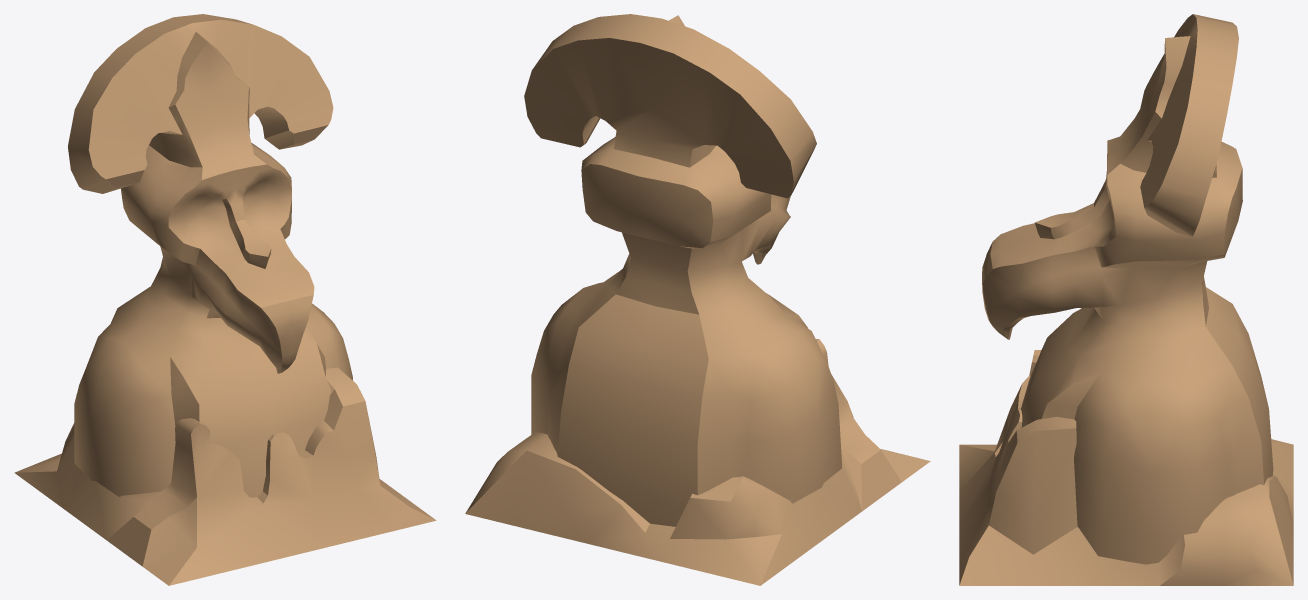
The model's file is OBJ_Sculpture_04.FBX.
3 renders of one model, left to right at view 1: azimuth 30°, elevation 25°; view 2: azimuth 150°, elevation 25°; view 3: azimuth 270°, elevation 25°, orthographic. The views are drawn at different scales.
Visible parts, largest first — view 1: OBJ_Sculpture_04; view 2: OBJ_Sculpture_04; view 3: OBJ_Sculpture_04.
Boxes of the visible parts, bbox=[...] form: OBJ_Sculpture_04: bbox=[14, 14, 436, 585]; OBJ_Sculpture_04: bbox=[465, 14, 930, 585]; OBJ_Sculpture_04: bbox=[959, 14, 1293, 585].
Size of the model in its own units: 18 by 28.87 by 18.
